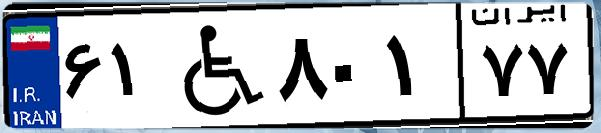0: (330, 28, 385, 110)
1: (385, 28, 445, 110), (110, 28, 158, 98)
6: (57, 26, 110, 100)
7: (475, 38, 525, 113), (525, 38, 570, 115)
8: (270, 28, 330, 110)
ژ (معلولین و جانبازان): (158, 12, 270, 120)
